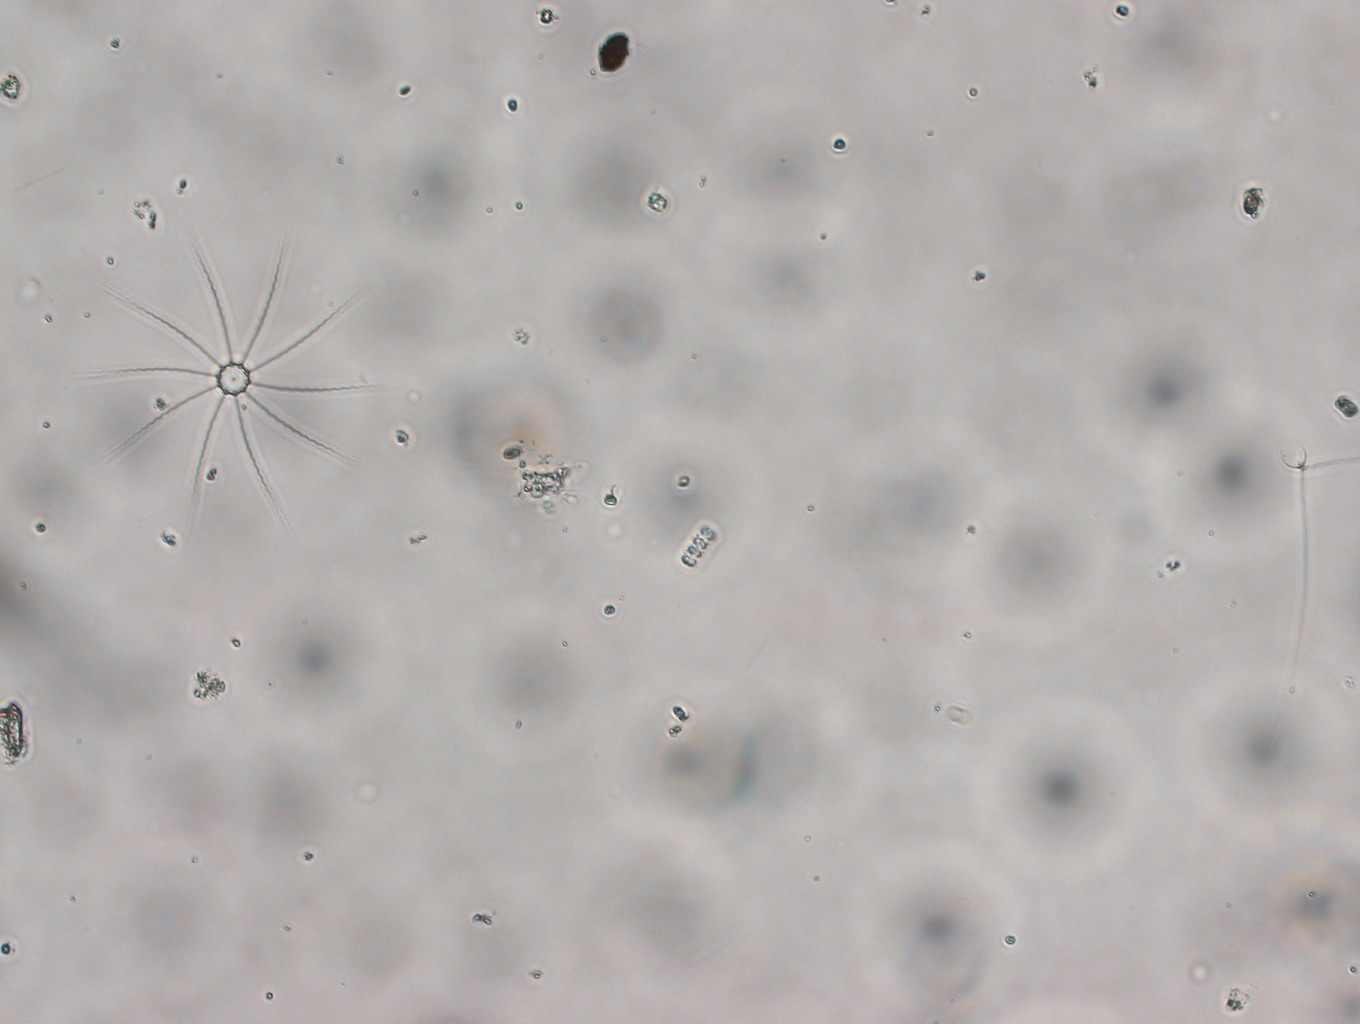bacteriastrum: (80, 234, 382, 517)
